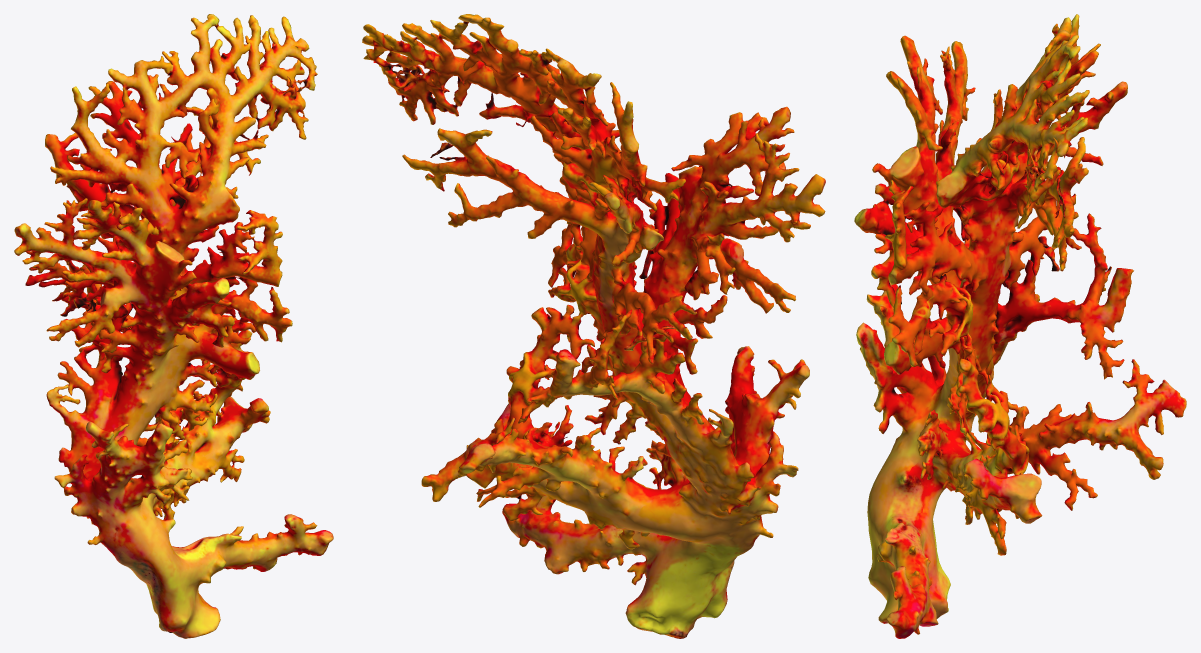
The model's file is Stylaster brochi orange.fbx.
3 renders of one model, left to right at view 1: azimuth 30°, elevation 25°; view 2: azimuth 150°, elevation 25°; view 3: azimuth 270°, elevation 25°, orthographic. The views are drawn at different scales.
Parts seen in each view (by area): view 1: Mesh_0.001; view 2: Mesh_0.001; view 3: Mesh_0.001.
Boxes of the visible parts, x1,y1,x2,y2 form: Mesh_0.001: [14, 14, 333, 638]; Mesh_0.001: [362, 14, 825, 638]; Mesh_0.001: [854, 14, 1186, 638].
Size of the model in its own units: 629 by 953 by 455.
Materials: 1 (1 with a texture image).
